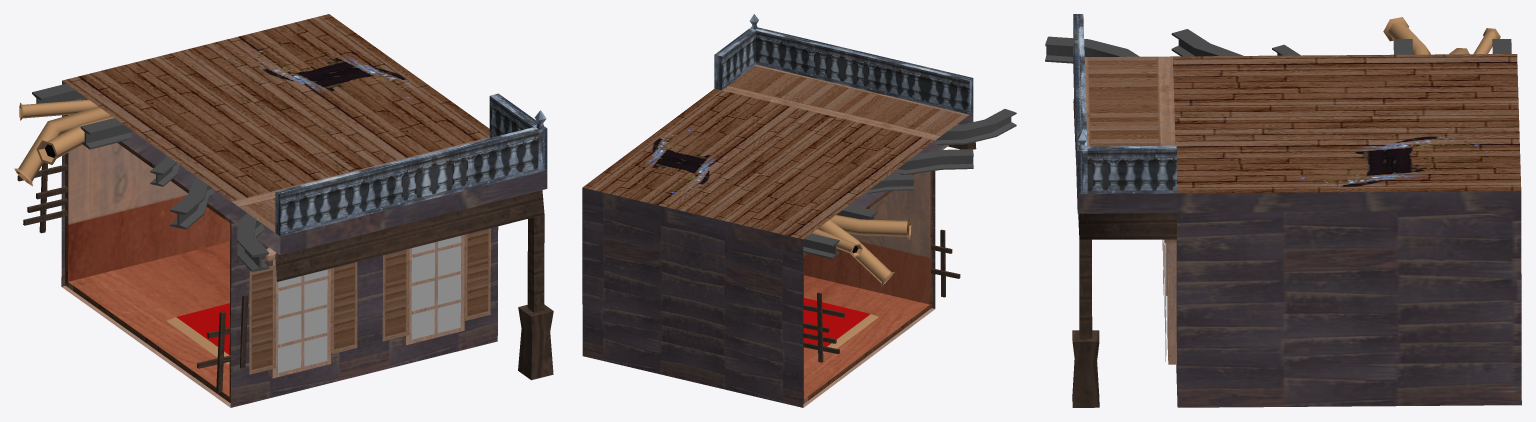
The model's file is Spooky_Tower_Floating_Cabin_02_Art.fbx.
3 renders of one model, left to right at view 1: azimuth 30°, elevation 25°; view 2: azimuth 150°, elevation 25°; view 3: azimuth 270°, elevation 25°, orthographic. The views are drawn at different scales.
Parts seen in each view (by area): view 1: Spooky_Tower_Floating_Cabin_02_Art; view 2: Spooky_Tower_Floating_Cabin_02_Art; view 3: Spooky_Tower_Floating_Cabin_02_Art.
Boxes of the visible parts, <box> form: Spooky_Tower_Floating_Cabin_02_Art: <box>14,14,553,407</box>; Spooky_Tower_Floating_Cabin_02_Art: <box>582,14,1016,407</box>; Spooky_Tower_Floating_Cabin_02_Art: <box>1045,14,1521,407</box>.
Size of the model in its own units: 545 by 389 by 609.
